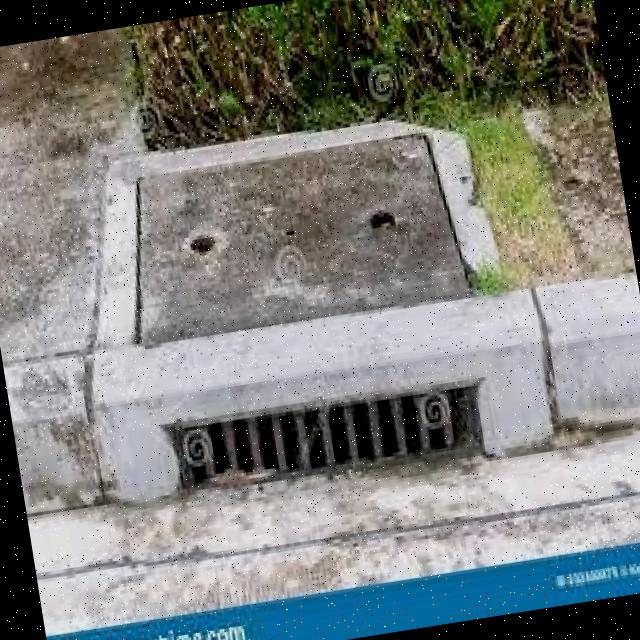curb: (5, 271, 640, 542)
